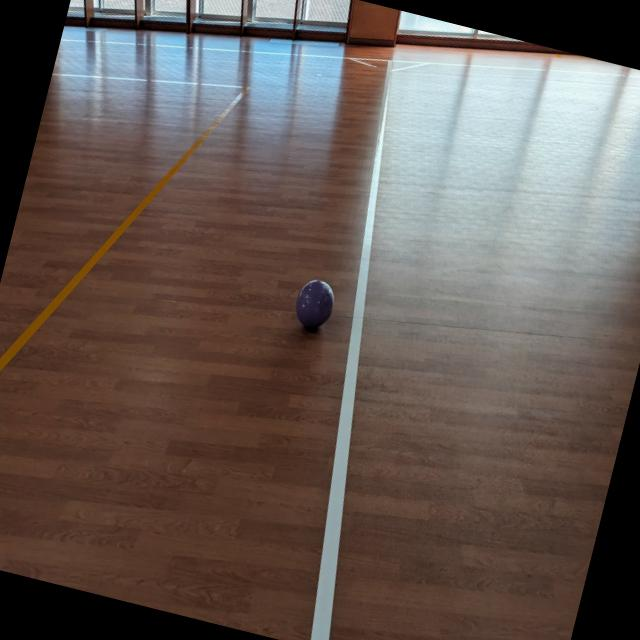purple_ball: (290, 273, 340, 334)
